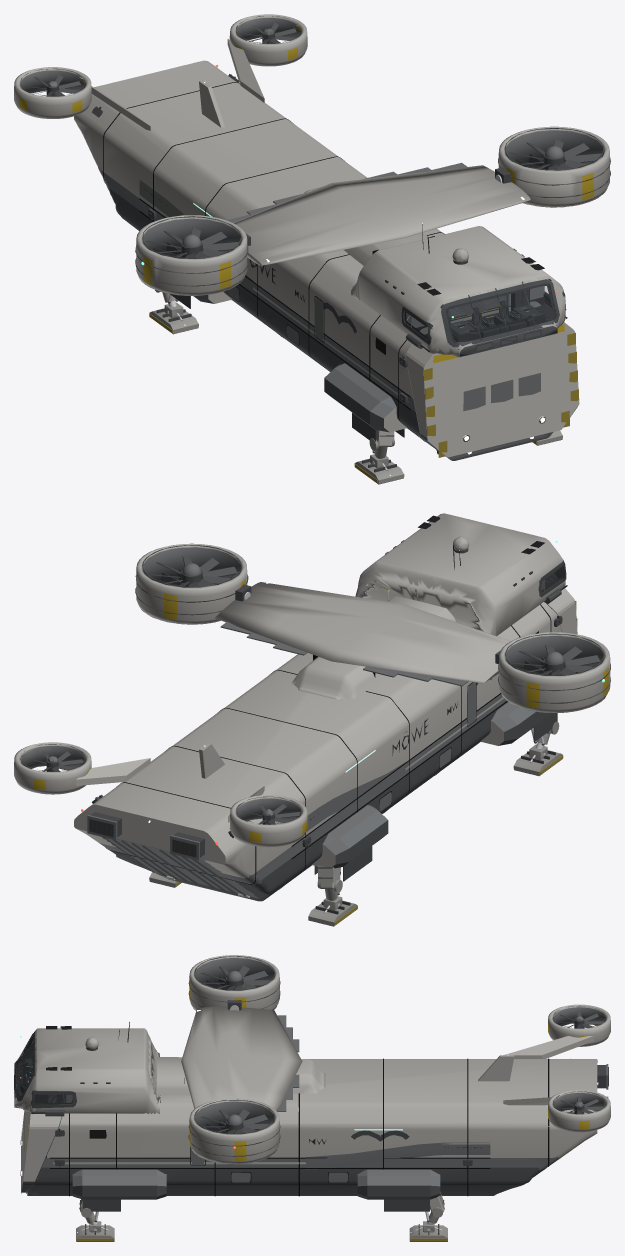
The model's file is MoeweFern.0a53bc3b18.glb.
The picture shows the model from 3 angles, top to bottom: view 1: azimuth 30°, elevation 25°; view 2: azimuth 150°, elevation 25°; view 3: azimuth 270°, elevation 25°; orthographic projection. The views are drawn at different scales.
Parts seen in each view (by area): view 1: Fahrwerkskasten hinten.002, Haube.001, Mantel.003, Bugplatte.001, Mantel.002, Kanzelglas.001, Duesenblock.008, Duesenrahmen.002, Bandkante.004, cp CP Formteil.001, Bugfeld.003, Bandlinie.002 (+10 smaller); view 2: Fahrwerkskasten hinten.002, Mantel.003, Bugplatte.001, Mantel.002, Duesenrahmen.002, Bandkante.004, Rampenhaut.003, Duesenblock.008, Rampenblatt.003, Gitterstab.018, Gitterstab.027, Bandlinie.002 (+8 smaller); view 3: Fahrwerkskasten hinten.002, Bugplatte.001, Mantel.002, Duesenrahmen.002, Mantel.003, Duesenblock.008, Bandkante.004, Haube.001, Bandlinie.002, Kanzelglas.001, Gitterstab.027, Gitterstab.018 (+10 smaller).
Part boxes in pixels (x1,y1,x2,y2): Fahrwerkskasten hinten.002: (14, 14, 565, 459); Haube.001: (406, 322, 579, 457); Mantel.003: (136, 215, 247, 295); Bugplatte.001: (20, 18, 552, 459); Mantel.002: (498, 126, 609, 207); Kanzelglas.001: (404, 279, 556, 350); Duesenblock.008: (20, 16, 566, 454); Duesenrahmen.002: (47, 28, 467, 344); Bandkante.004: (103, 82, 444, 441); cp CP Formteil.001: (417, 289, 545, 342); Bugfeld.003: (463, 373, 540, 411); Bandlinie.002: (199, 80, 468, 402); Fahrwerkskasten hinten.002: (14, 513, 565, 901); Mantel.003: (499, 632, 610, 713); Bugplatte.001: (21, 603, 557, 885); Mantel.002: (136, 543, 247, 624); Duesenrahmen.002: (47, 621, 476, 860); Bandkante.004: (105, 604, 551, 889); Rampenhaut.003: (106, 838, 257, 898); Duesenblock.008: (20, 548, 566, 857); Rampenblatt.003: (112, 839, 245, 896); Gitterstab.018: (135, 545, 251, 615); Gitterstab.027: (495, 633, 610, 703); Bandlinie.002: (199, 536, 503, 778); Fahrwerkskasten hinten.002: (14, 1004, 610, 1199); Bugplatte.001: (29, 1007, 605, 1190); Mantel.002: (189, 1098, 279, 1164); Duesenrahmen.002: (26, 1015, 608, 1193); Mantel.003: (189, 955, 279, 1010); Duesenblock.008: (14, 1005, 606, 1195); Bandkante.004: (50, 1058, 549, 1196); Haube.001: (21, 1111, 61, 1191); Bandlinie.002: (53, 1037, 514, 1164); Kanzelglas.001: (16, 1035, 72, 1107); Gitterstab.027: (188, 956, 280, 1010); Gitterstab.018: (188, 1099, 280, 1156).
Size of the model in its own units: 26.81 by 12.13 by 36.88.
